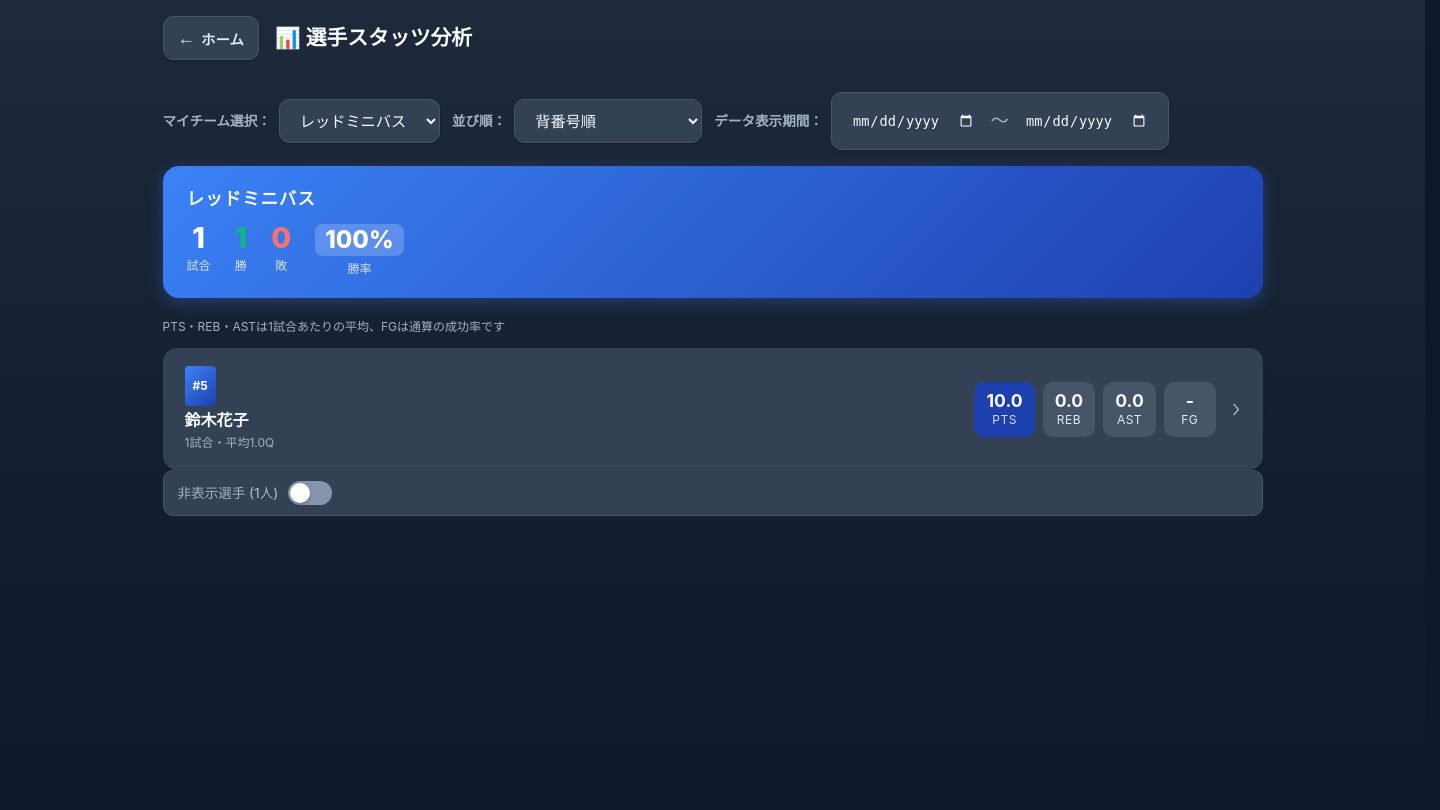
Test: 非表示選手も表示しているとき › 印は文字でも伝える（色や枠だけでは読み取れない）
Click the checkbox named "非表示にした選手も一覧に表示する". click: (228, 493)
box: top-left (162, 470), bottom-right (1262, 516)
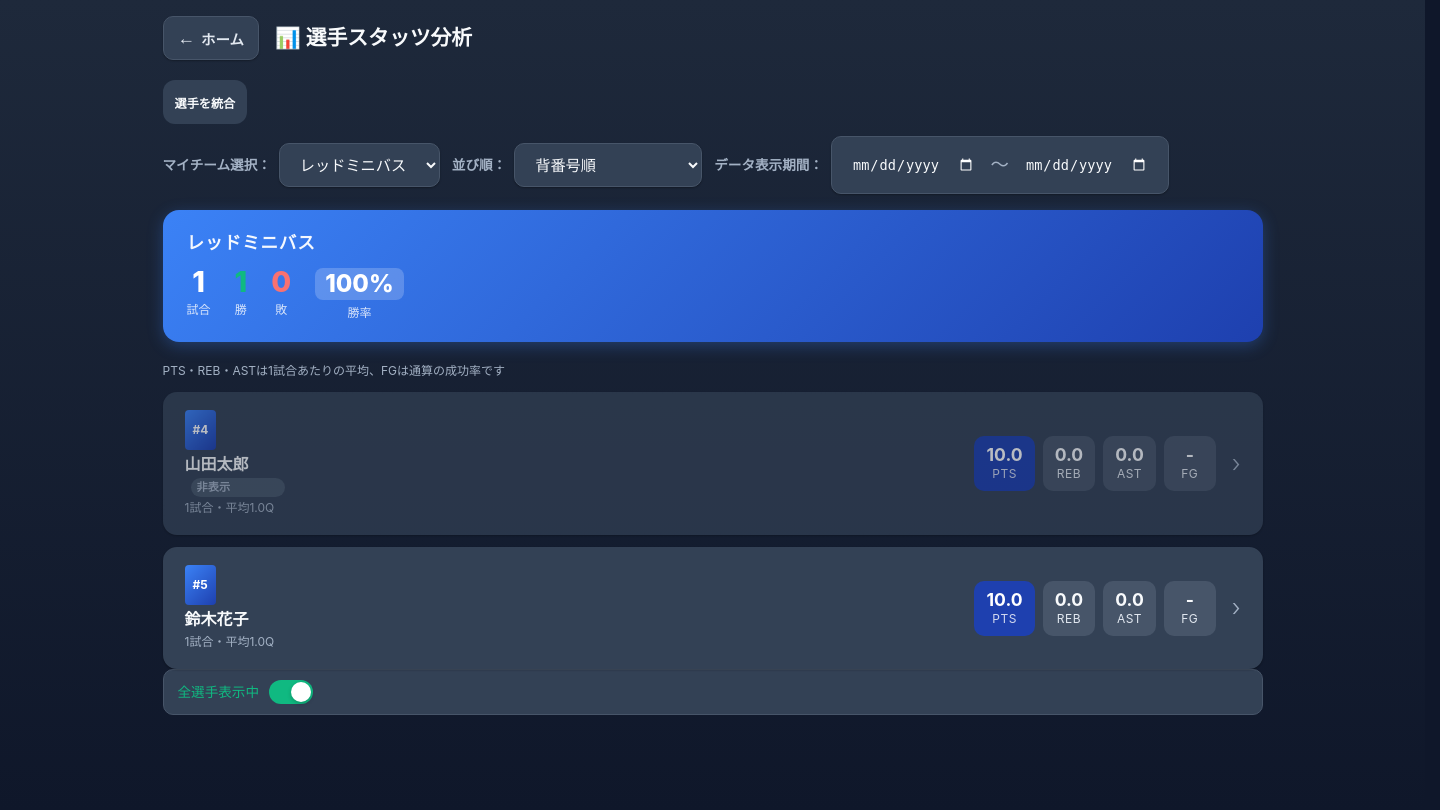
Result: the button "#4 山田太郎 非表示 1試合平均1.0Q 10.0 PTS 0.0 REB 0.0 AST - FG ›" is shown at top-left (162, 392), bottom-right (1262, 535)
